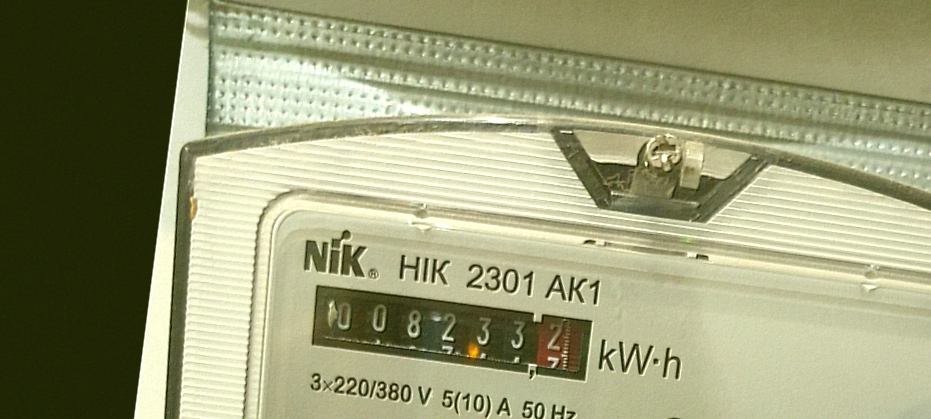0: (331, 298, 355, 332), (367, 301, 390, 334)
2: (436, 310, 460, 344), (544, 320, 565, 353)
3: (472, 314, 494, 347), (508, 317, 528, 351)
8: (403, 306, 424, 340)
screen: (297, 272, 605, 391)
